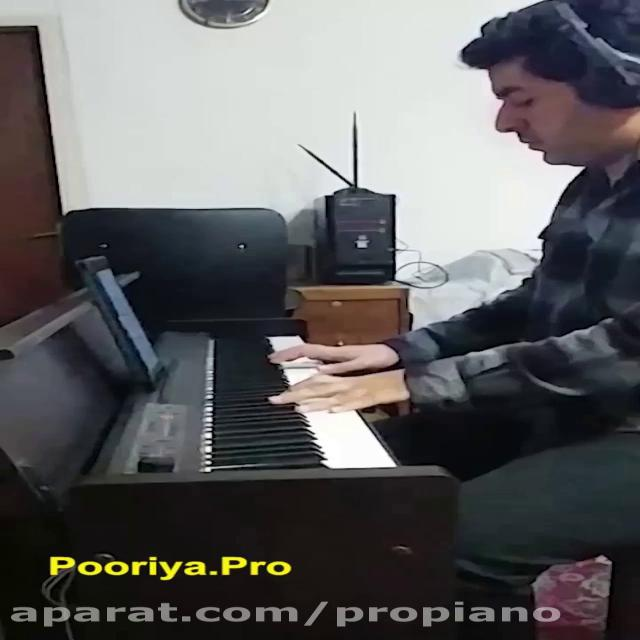Piano: (191, 317, 427, 475)
